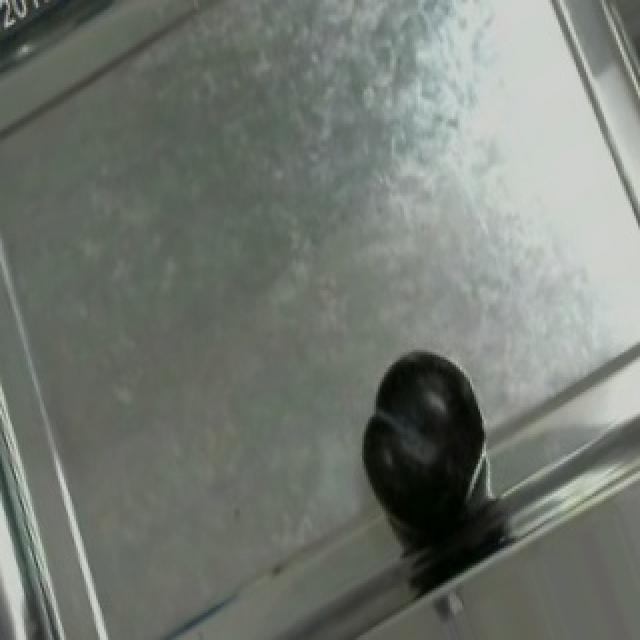Fruit: (340, 332, 504, 554)
